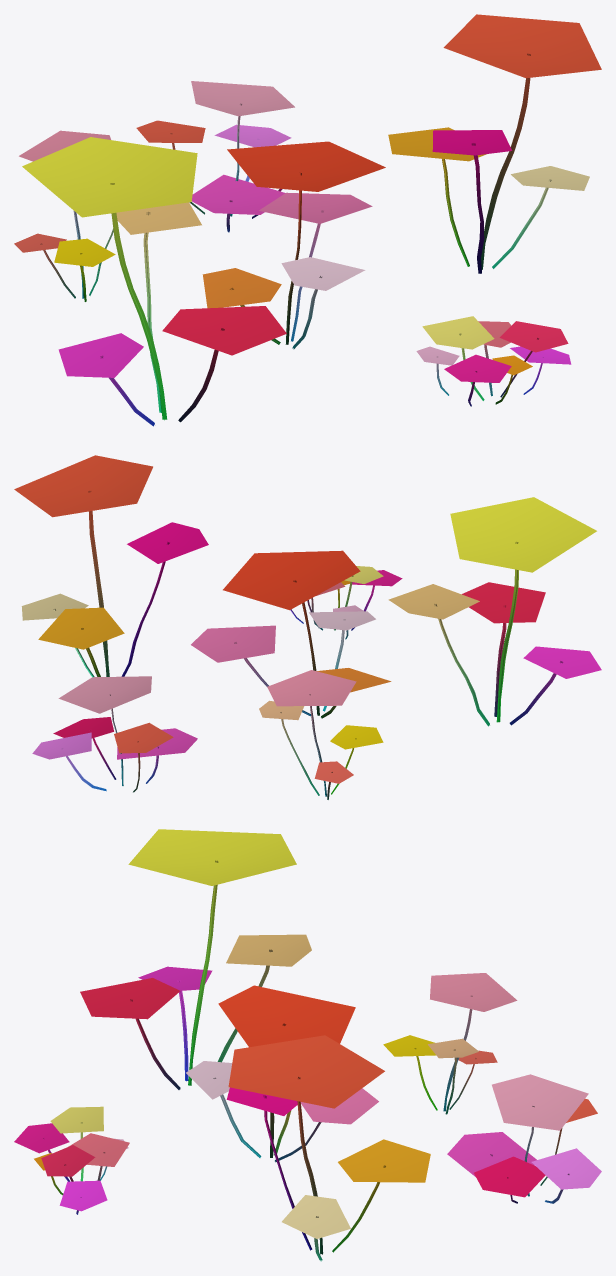
The model's file is Wood_Sorrel_wcwmchzja_Mid_wcwmchzja_VarG_LOD0.fbx.
The picture shows the model from 3 angles, top to bottom: view 1: azimuth 30°, elevation 25°; view 2: azimuth 150°, elevation 25°; view 3: azimuth 270°, elevation 25°; orthographic projection. The views are drawn at different scales.
Parts seen in each view (by area): view 1: _89uq_VarG_LOD1; view 2: _89uq_VarG_LOD1; view 3: _89uq_VarG_LOD1.
Boxes of the visible parts, left/top/right/bottom form: _89uq_VarG_LOD1: left=14, top=14, right=601, bottom=426; _89uq_VarG_LOD1: left=14, top=455, right=601, bottom=799; _89uq_VarG_LOD1: left=14, top=829, right=601, bottom=1261.
Size of the model in its own units: 25.88 by 10.14 by 24.42.
